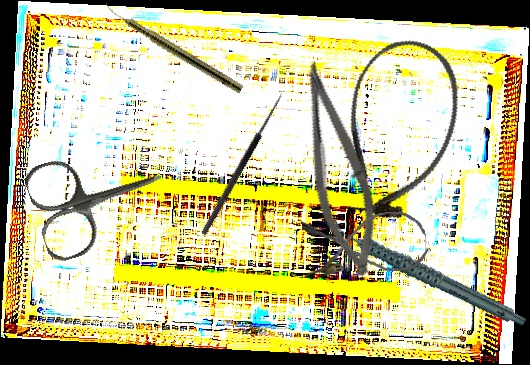Cannula: (320, 27, 476, 232), (301, 209, 428, 278)
Handpiece: (329, 183, 527, 362), (101, 1, 245, 95)
Hook Surgical: (193, 87, 286, 237)
Iris Scissors: (21, 130, 176, 266)
Micro Scissor: (277, 56, 396, 282)
